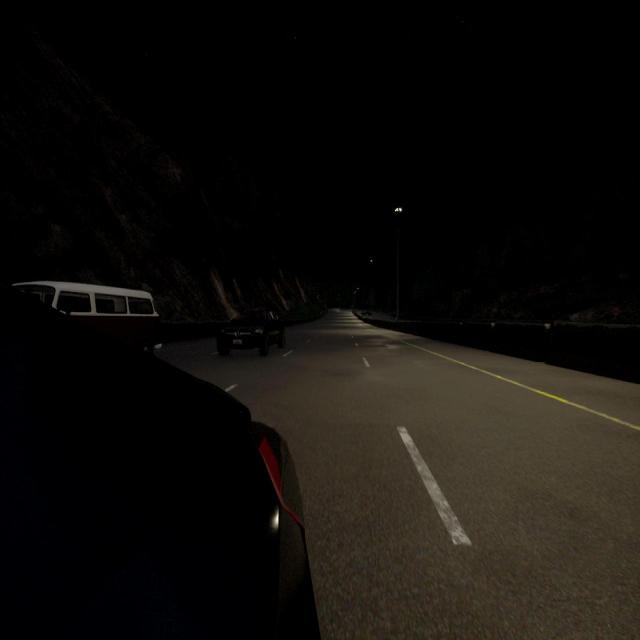Vehicle: (0, 289, 319, 640), (10, 283, 166, 358), (215, 306, 286, 358)
